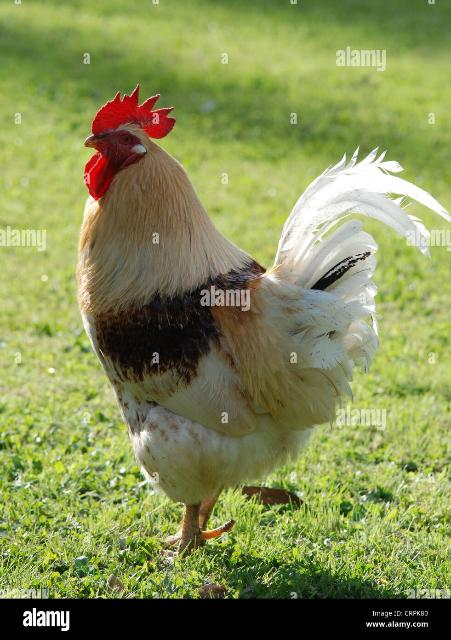Chicken: (78, 87, 451, 548)
